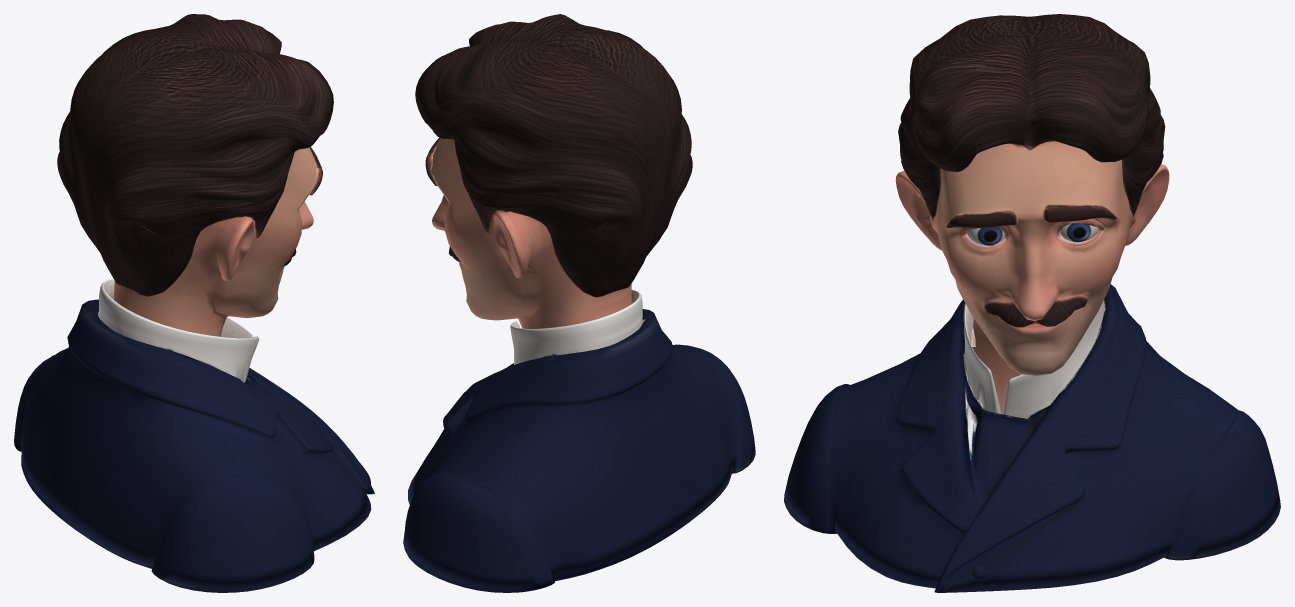
The model's file is listrik.glb.
The picture shows the model from 3 angles, left to right: view 1: azimuth 30°, elevation 25°; view 2: azimuth 150°, elevation 25°; view 3: azimuth 270°, elevation 25°; orthographic projection. The views are drawn at different scales.
Visible parts, largest first — view 1: ab92102d_8583_452a_b78d_947b9c204ce5; view 2: ab92102d_8583_452a_b78d_947b9c204ce5; view 3: ab92102d_8583_452a_b78d_947b9c204ce5.
Boxes of the visible parts, bbox=[...] form: ab92102d_8583_452a_b78d_947b9c204ce5: bbox=[14, 14, 374, 592]; ab92102d_8583_452a_b78d_947b9c204ce5: bbox=[403, 14, 755, 592]; ab92102d_8583_452a_b78d_947b9c204ce5: bbox=[784, 14, 1280, 592].
Bounding box in the file's own units: 0.606 × 0.9995 × 0.9146.
Materials: 1 (1 with a texture image).
